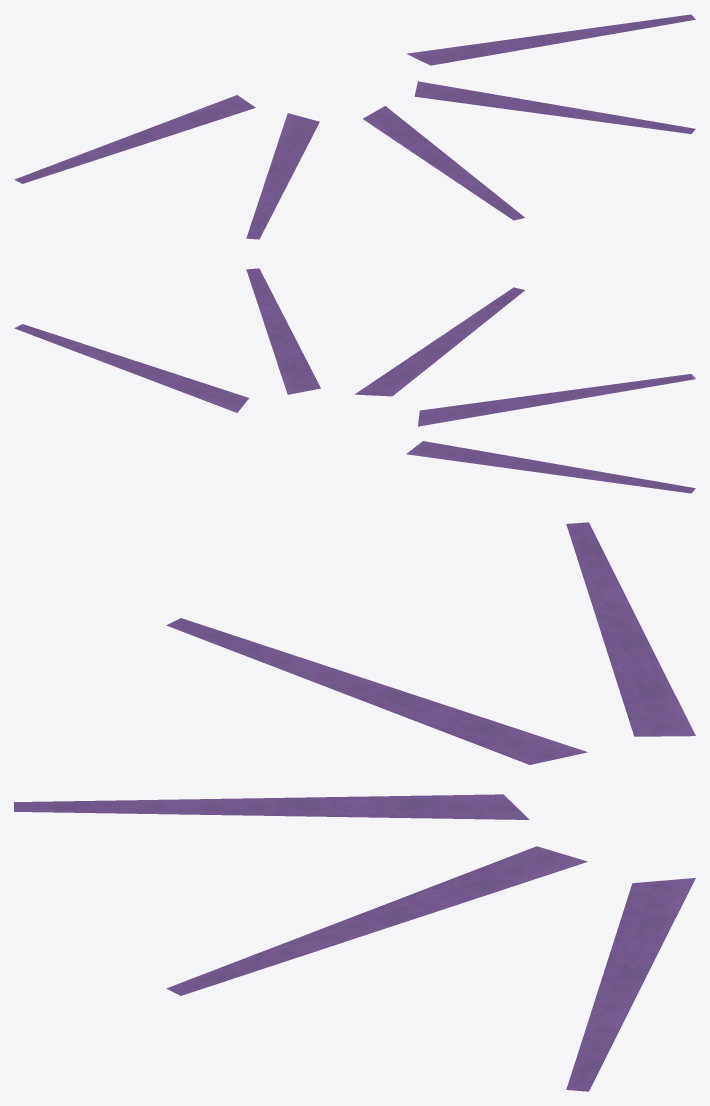
File: dimian01_zp1.fbx
3 views of the same model, one above another, from view 1: azimuth 30°, elevation 25°; view 2: azimuth 150°, elevation 25°; view 3: azimuth 270°, elevation 25° (orthographic). The views are drawn at different scales.
Parts seen in each view (by area): view 1: dimian01_zp1; view 2: dimian01_zp1; view 3: dimian01_zp1.
Boxes of the visible parts, bbox=[...] form: dimian01_zp1: bbox=[14, 14, 695, 239]; dimian01_zp1: bbox=[14, 268, 695, 493]; dimian01_zp1: bbox=[14, 522, 695, 1091].
Bounding box in the file's own units: 123 × 5.19e-06 × 62.11.
1 material, 1 textured.
